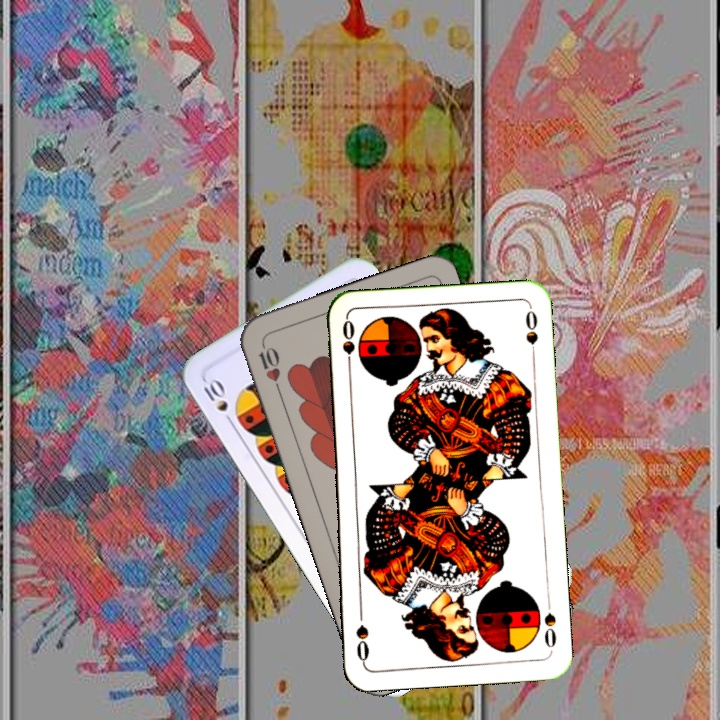H10: (255, 339, 284, 397)
S10: (199, 374, 237, 429)
SO: (338, 316, 357, 375), (540, 608, 559, 654)
